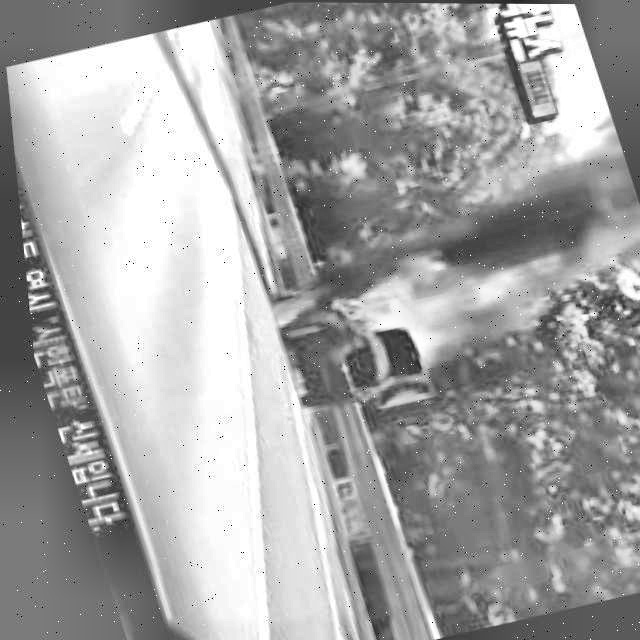Fire: (316, 202, 577, 345), (253, 270, 337, 332)
